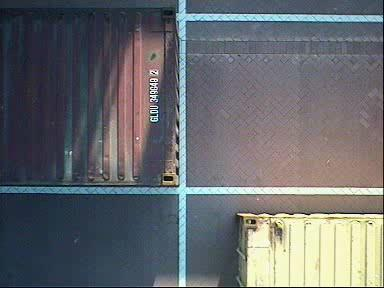groundmarker_2: (80, 152, 134, 256)
